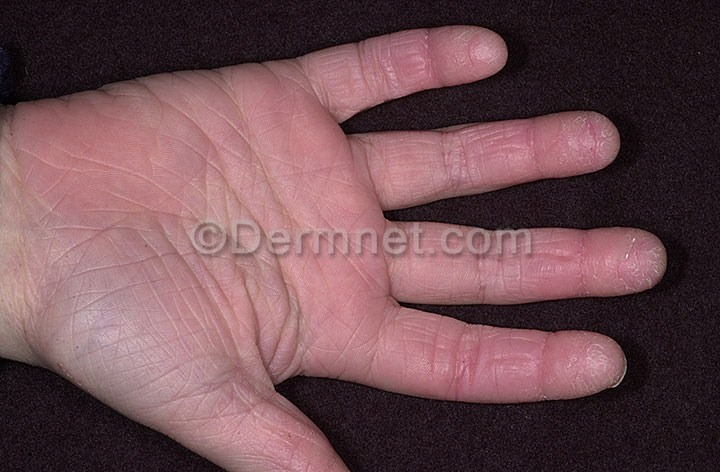Eczema: (541, 230, 668, 299), (491, 114, 619, 180), (523, 327, 626, 397), (429, 26, 508, 83), (266, 398, 324, 472)
